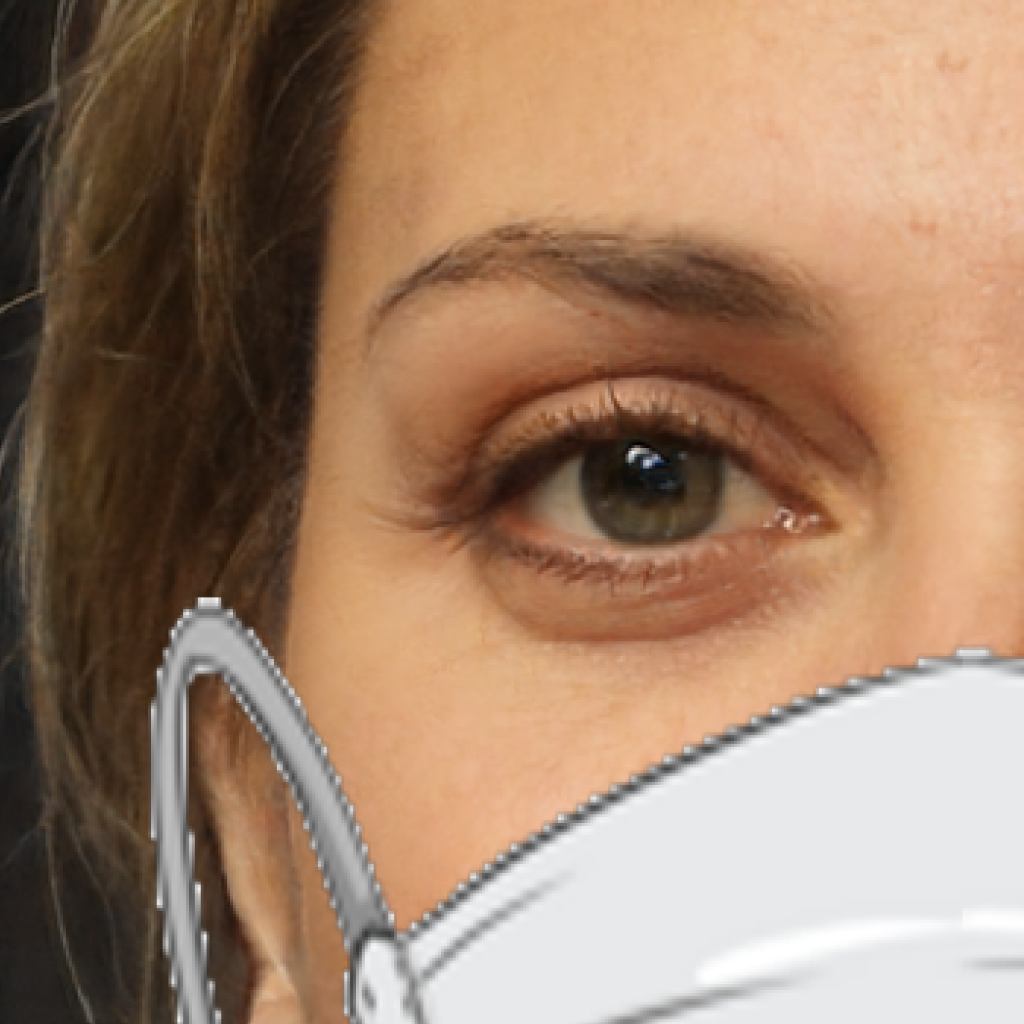iris: (581, 438, 721, 543)
pupil: (615, 441, 682, 504)
sclera: (495, 451, 616, 542), (710, 455, 813, 534)
